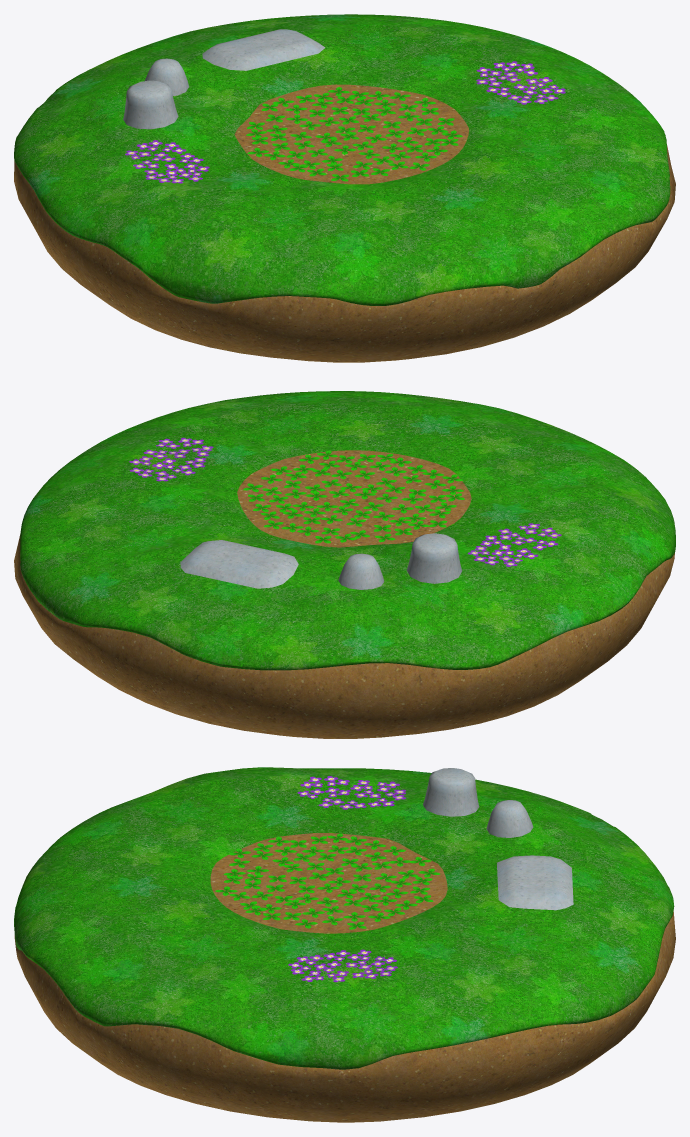
Rendered from HikeGardenRevolution.fbx.
3 views of the same model, one above another, from view 1: azimuth 30°, elevation 25°; view 2: azimuth 150°, elevation 25°; view 3: azimuth 270°, elevation 25° (orthographic).
Visible parts, largest first — view 1: Plane.001, mesh-5.000, Plane.003, Plane.002, Plane; view 2: Plane.001, mesh-5.000, Plane.003, Plane.002, Plane; view 3: Plane.001, mesh-5.000, Plane.003, Plane.002, Plane.
Boxes of the visible parts, bbox=[...] form: Plane.001: bbox=[14, 14, 670, 305]; mesh-5.000: bbox=[14, 84, 675, 362]; Plane.003: bbox=[246, 87, 462, 181]; Plane.002: bbox=[123, 29, 325, 129]; Plane: bbox=[125, 61, 565, 183]; Plane.001: bbox=[20, 391, 675, 670]; mesh-5.000: bbox=[14, 450, 674, 738]; Plane.003: bbox=[243, 450, 464, 543]; Plane.002: bbox=[180, 533, 461, 589]; Plane: bbox=[129, 437, 561, 566]; Plane.001: bbox=[14, 767, 674, 1069]; mesh-5.000: bbox=[14, 833, 675, 1122]; Plane.003: bbox=[215, 833, 440, 929]; Plane.002: bbox=[423, 768, 573, 910]; Plane: bbox=[288, 776, 406, 982].
Bounding box in the file's own units: 293498 × 93991 × 293460.
Materials: 5 (5 with a texture image).
